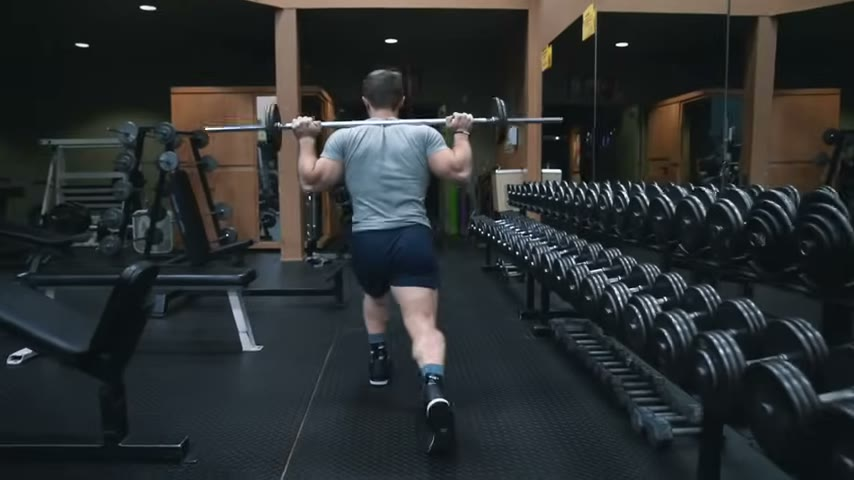barbell_plate_side: (686, 291, 768, 478)
